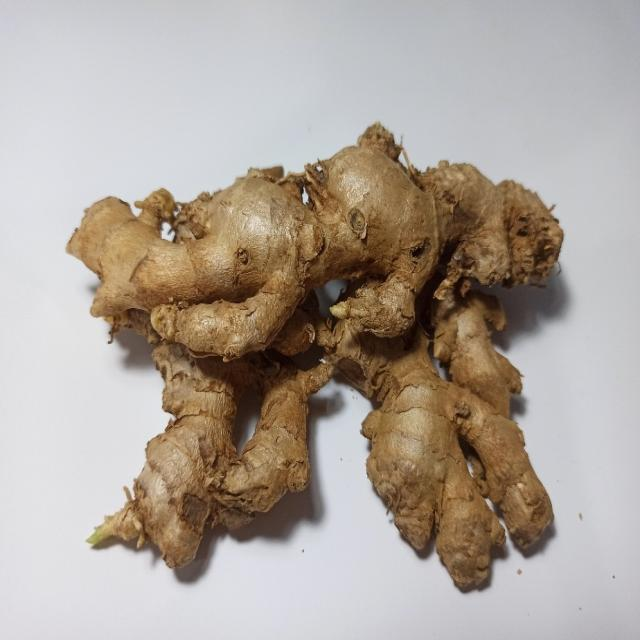ginger: (82, 131, 560, 588)
